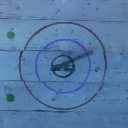Axe Tip: (53, 66, 67, 68)
